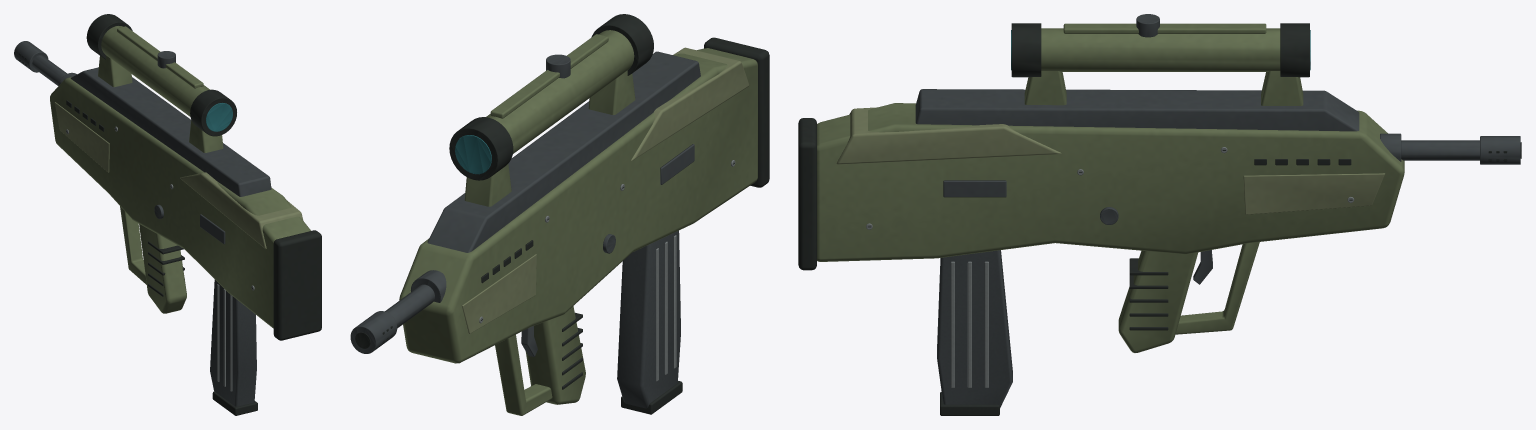
Rendered from sar21-inspired.glb.
3 views of the same model, side by side, from view 1: azimuth 30°, elevation 25°; view 2: azimuth 150°, elevation 25°; view 3: azimuth 270°, elevation 25° (orthographic). The views are drawn at different scales.
Visible parts, largest first — view 1: sar21-inspired__body, sar21-inspired__magazine; view 2: sar21-inspired__body, sar21-inspired__magazine; view 3: sar21-inspired__body, sar21-inspired__magazine.
Part boxes in pixels (left/top/right/bottom): sar21-inspired__body: left=14, top=14, right=321, bottom=340; sar21-inspired__magazine: left=210, top=279, right=257, bottom=415; sar21-inspired__body: left=350, top=14, right=769, bottom=415; sar21-inspired__magazine: left=617, top=230, right=682, bottom=414; sar21-inspired__body: left=798, top=14, right=1521, bottom=352; sar21-inspired__magazine: left=937, top=250, right=1012, bottom=415.
Bounding box in the file's own units: 0.085 × 0.5104 × 0.856.
Materials: 6 (6 with a texture image).
